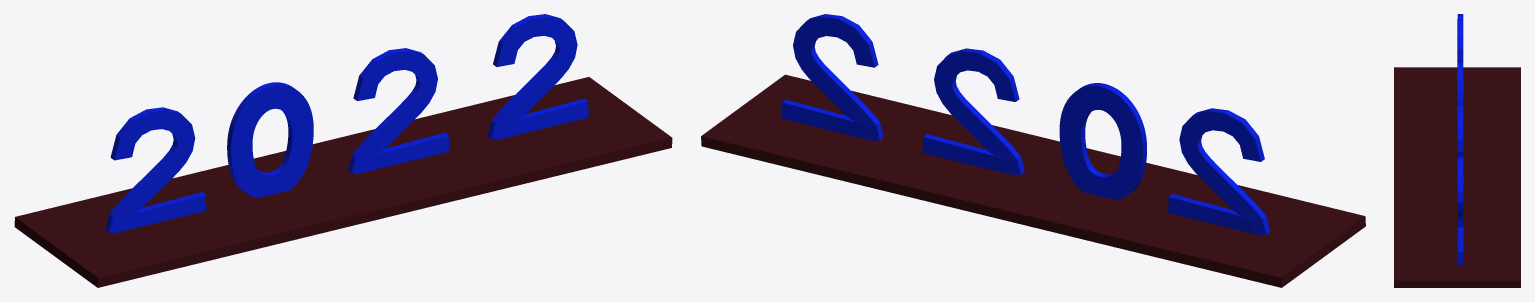
3 renders of one model, left to right at view 1: azimuth 30°, elevation 25°; view 2: azimuth 150°, elevation 25°; view 3: azimuth 270°, elevation 25°, orthographic. The views are drawn at different scales.
Parts seen in each view (by area): view 1: Plane.001; view 2: Plane.001; view 3: Plane.001.
Part boxes in pixels (x1,y1,x2,y2): Plane.001: [14, 14, 672, 287]; Plane.001: [701, 14, 1365, 287]; Plane.001: [1394, 14, 1520, 287].
Bounding box in the file's own units: 3.67 × 0.7454 × 0.921.
